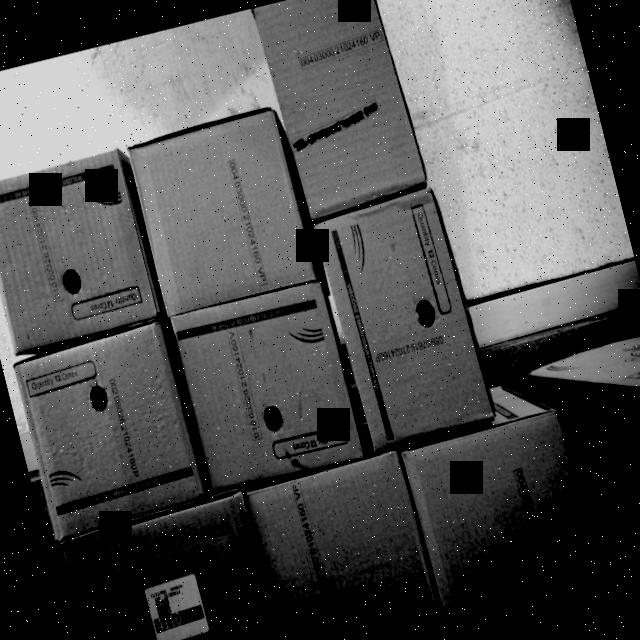box: (314, 190, 502, 458), (164, 274, 365, 492), (5, 320, 206, 536), (399, 408, 600, 618), (235, 440, 446, 640), (121, 105, 318, 316), (253, 0, 429, 223), (0, 146, 165, 356), (59, 489, 284, 640)
